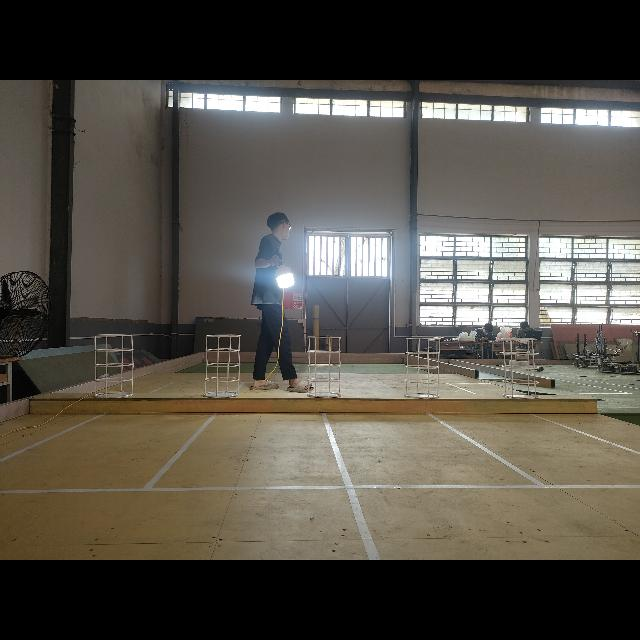S: (202, 332, 248, 402), (498, 328, 542, 398), (403, 334, 447, 401), (302, 332, 343, 396), (96, 329, 134, 397)
